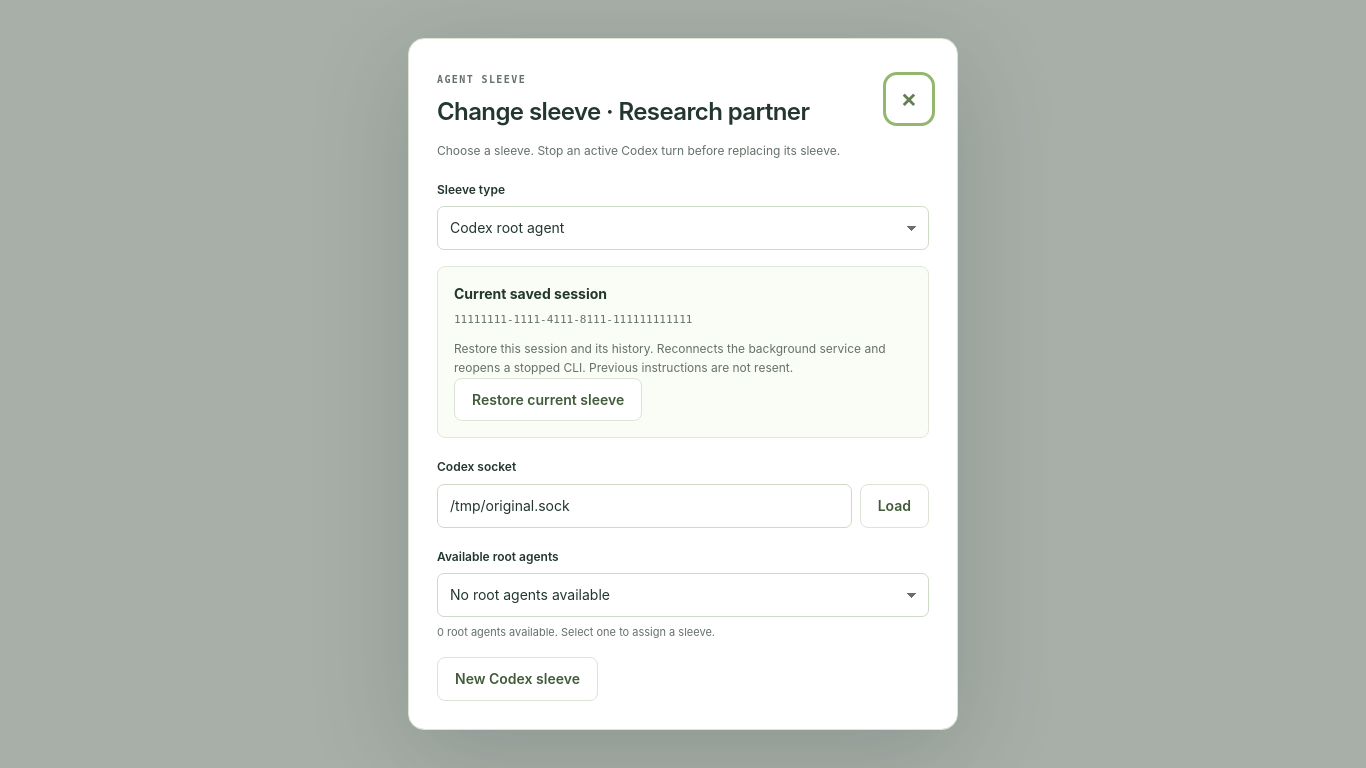
Test: identity dashboard › keeps recovery errors visible and retains the saved session
Click the button "Restore current sleeve".
click(548, 399)  # box left=454, top=378, right=642, bottom=421
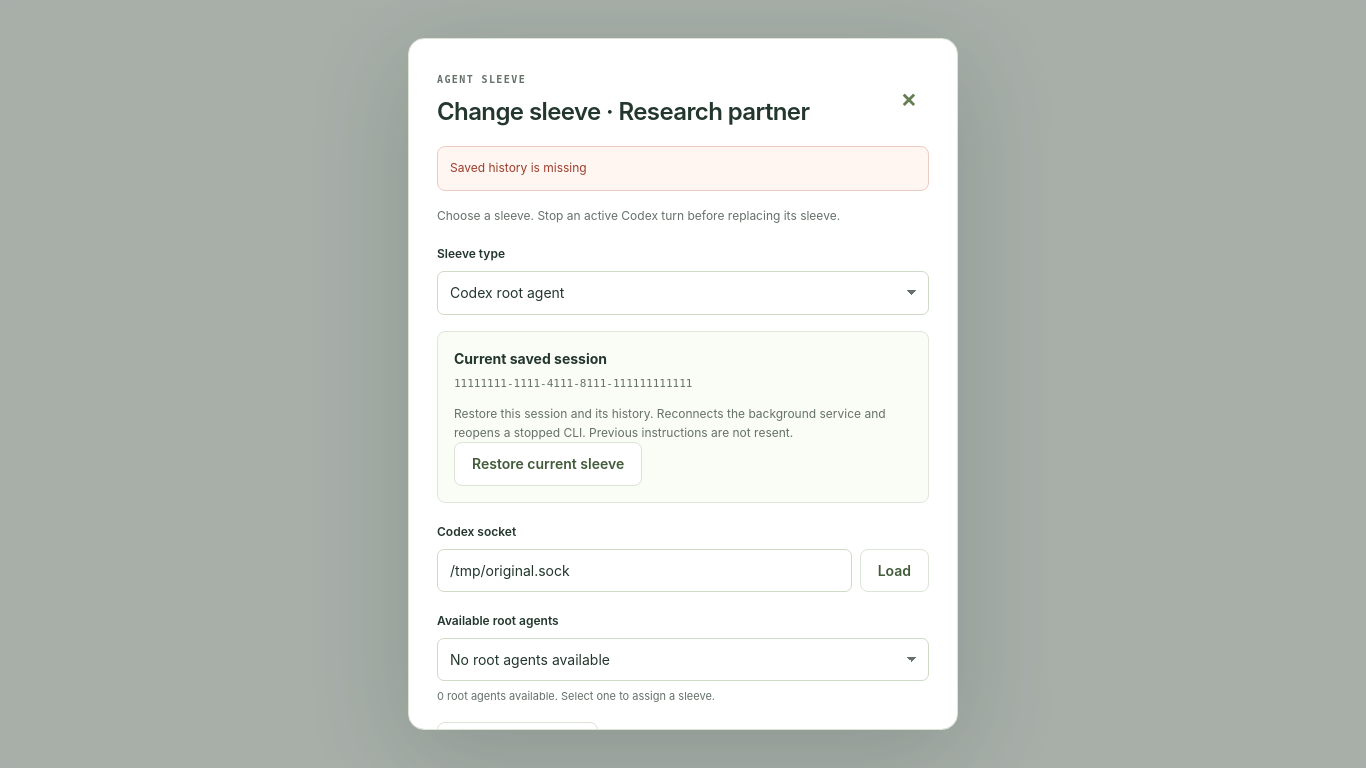
Expected: the text "11111111-1111-4111-8111-111111111111" is shown, left=454, top=377, right=692, bottom=390
Expected: the message "Saved history is missing" is shown, left=437, top=146, right=929, bottom=191
